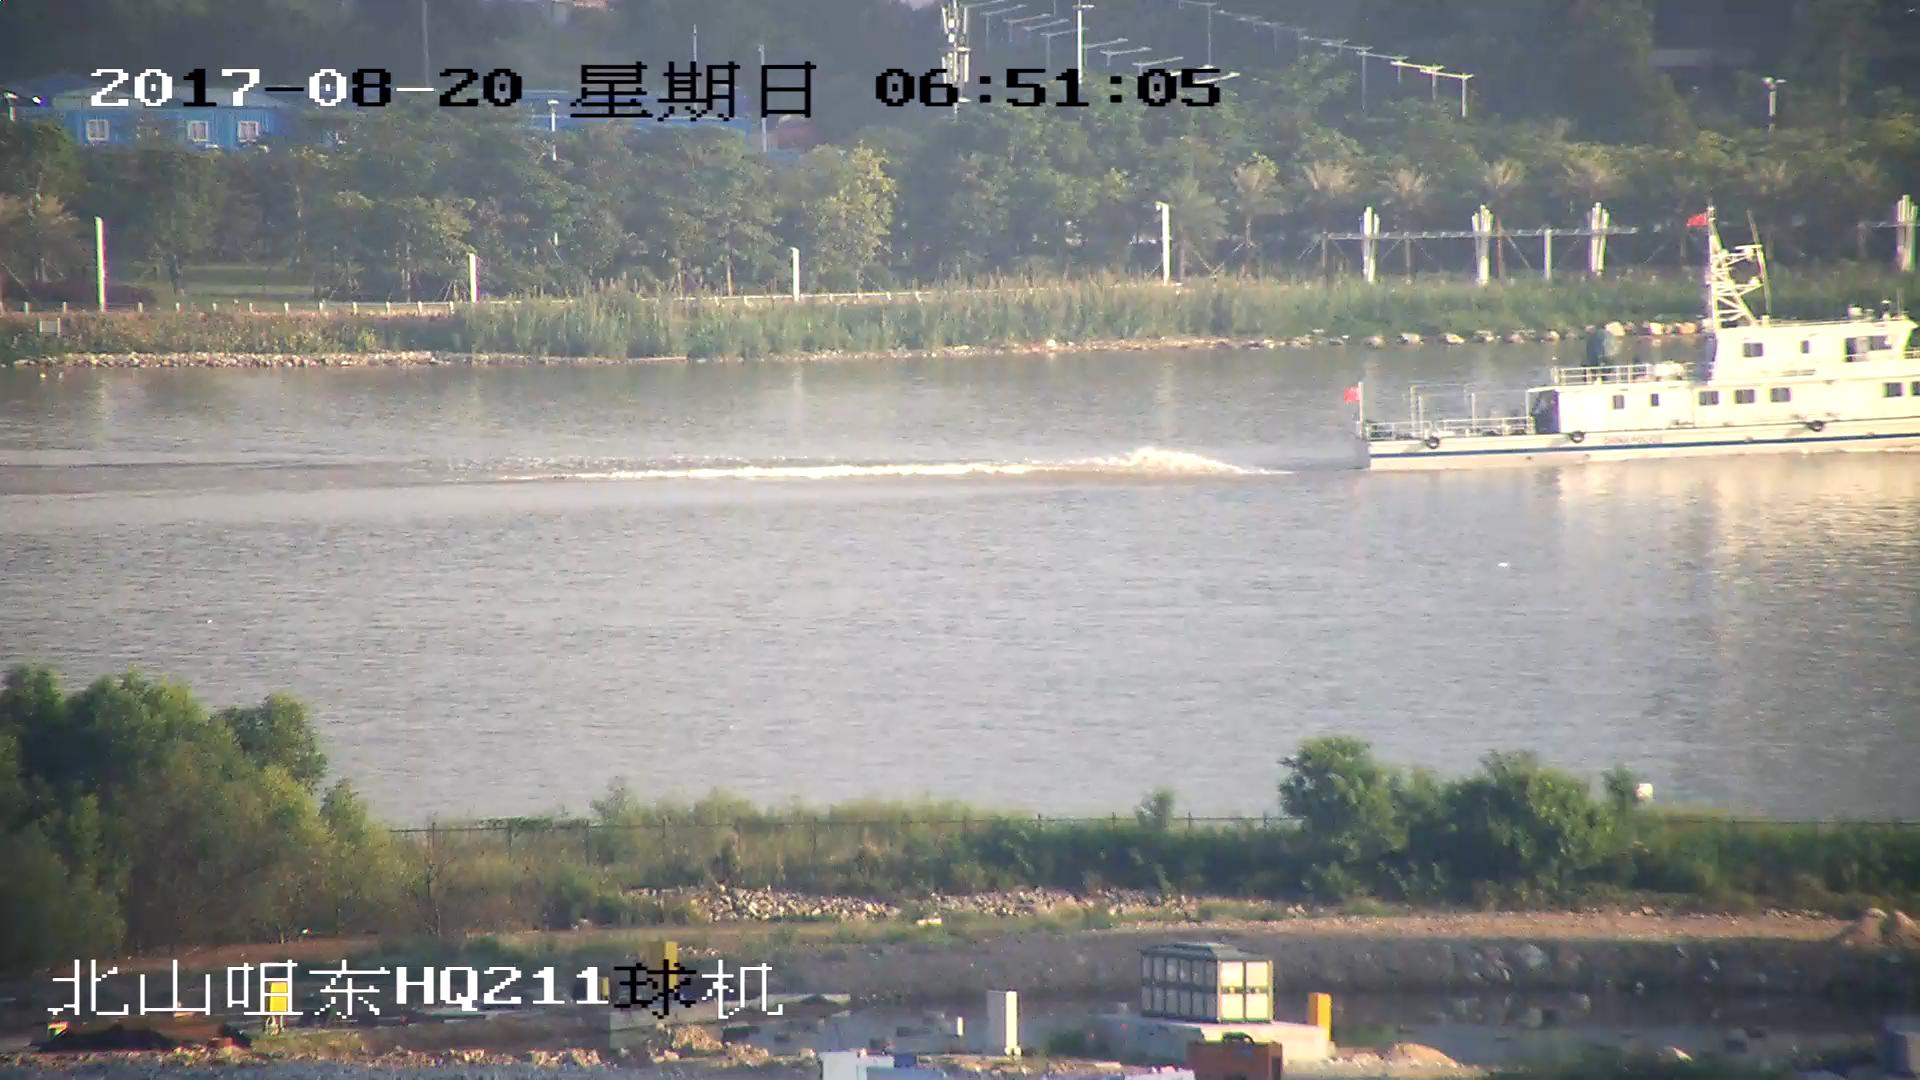passenger ship: (1364, 208, 1920, 471)
